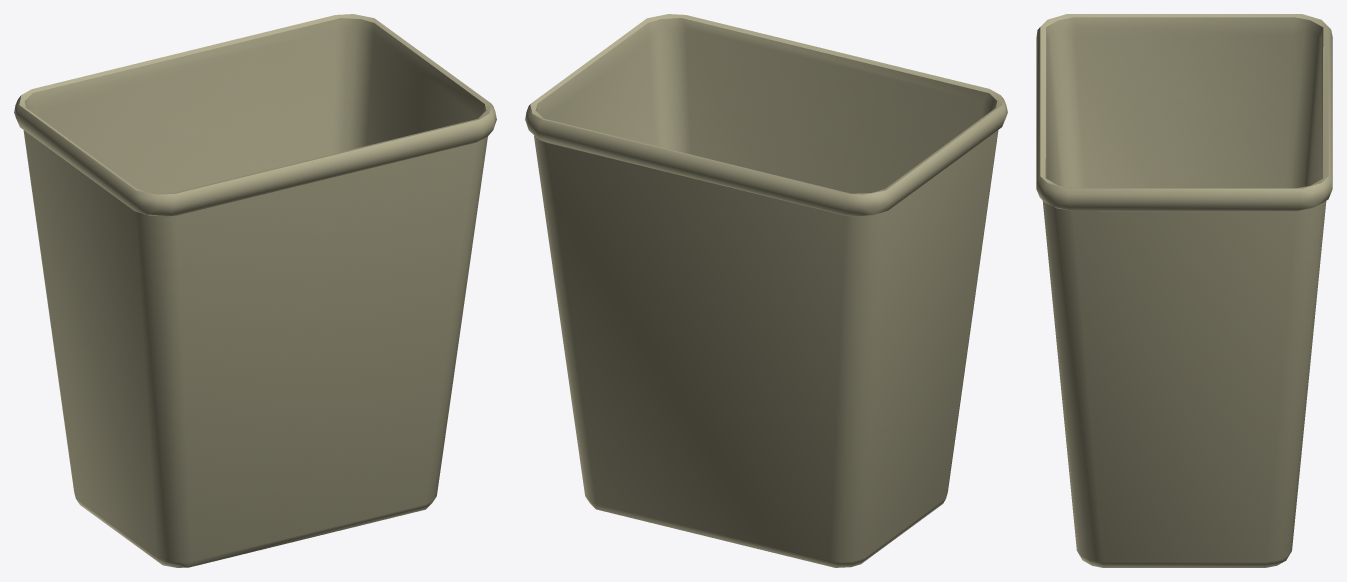
Rendered from mu01_wastebasket_small_lod1.glb.
3 views of the same model, side by side, from view 1: azimuth 30°, elevation 25°; view 2: azimuth 150°, elevation 25°; view 3: azimuth 270°, elevation 25° (orthographic).
Visible parts, largest first — view 1: bin_continuous_shell_rolled_rim_LOD1; view 2: bin_continuous_shell_rolled_rim_LOD1; view 3: bin_continuous_shell_rolled_rim_LOD1.
Part boxes in pixels (<box>): bin_continuous_shell_rolled_rim_LOD1: <box>14,14,496,567</box>; bin_continuous_shell_rolled_rim_LOD1: <box>525,14,1007,567</box>; bin_continuous_shell_rolled_rim_LOD1: <box>1036,14,1332,567</box>.
Bounding box in the file's own units: 0.2976 × 0.3112 × 0.2088.
1 material, 1 textured.
